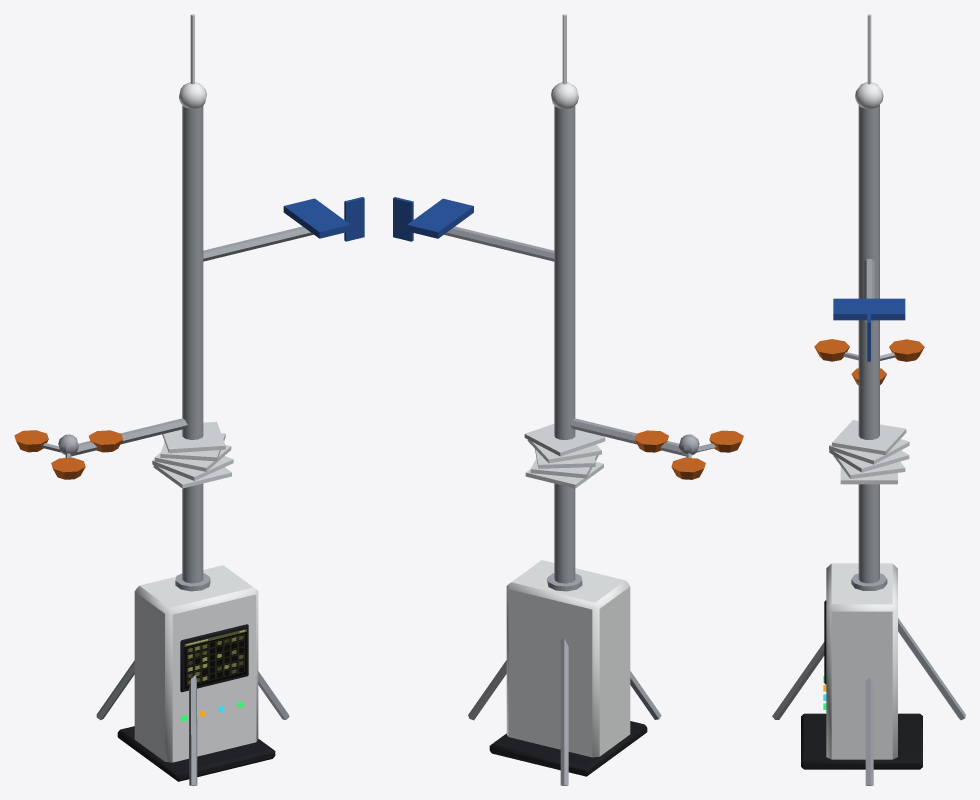
File: sciinstrument_weather_station.glb
3 views of the same model, side by side, from view 1: azimuth 30°, elevation 25°; view 2: azimuth 150°, elevation 25°; view 3: azimuth 270°, elevation 25° (orthographic).
Visible parts, largest first — view 1: sciinstrument_weather_station; view 2: sciinstrument_weather_station; view 3: sciinstrument_weather_station.
Boxes of the visible parts, x1,y1,x2,y2 form: sciinstrument_weather_station: (14, 14, 364, 785); sciinstrument_weather_station: (393, 14, 743, 785); sciinstrument_weather_station: (772, 14, 965, 785).
Bounding box in the file's own units: 1.06 × 2.25 × 0.5404.
11 materials, 1 textured.
